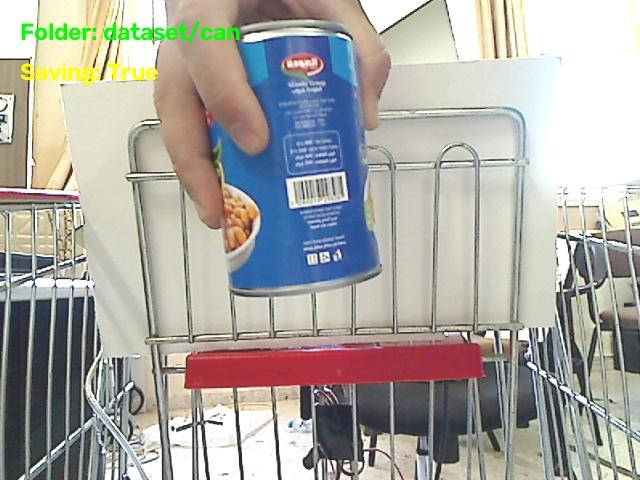can: (208, 20, 380, 295)
